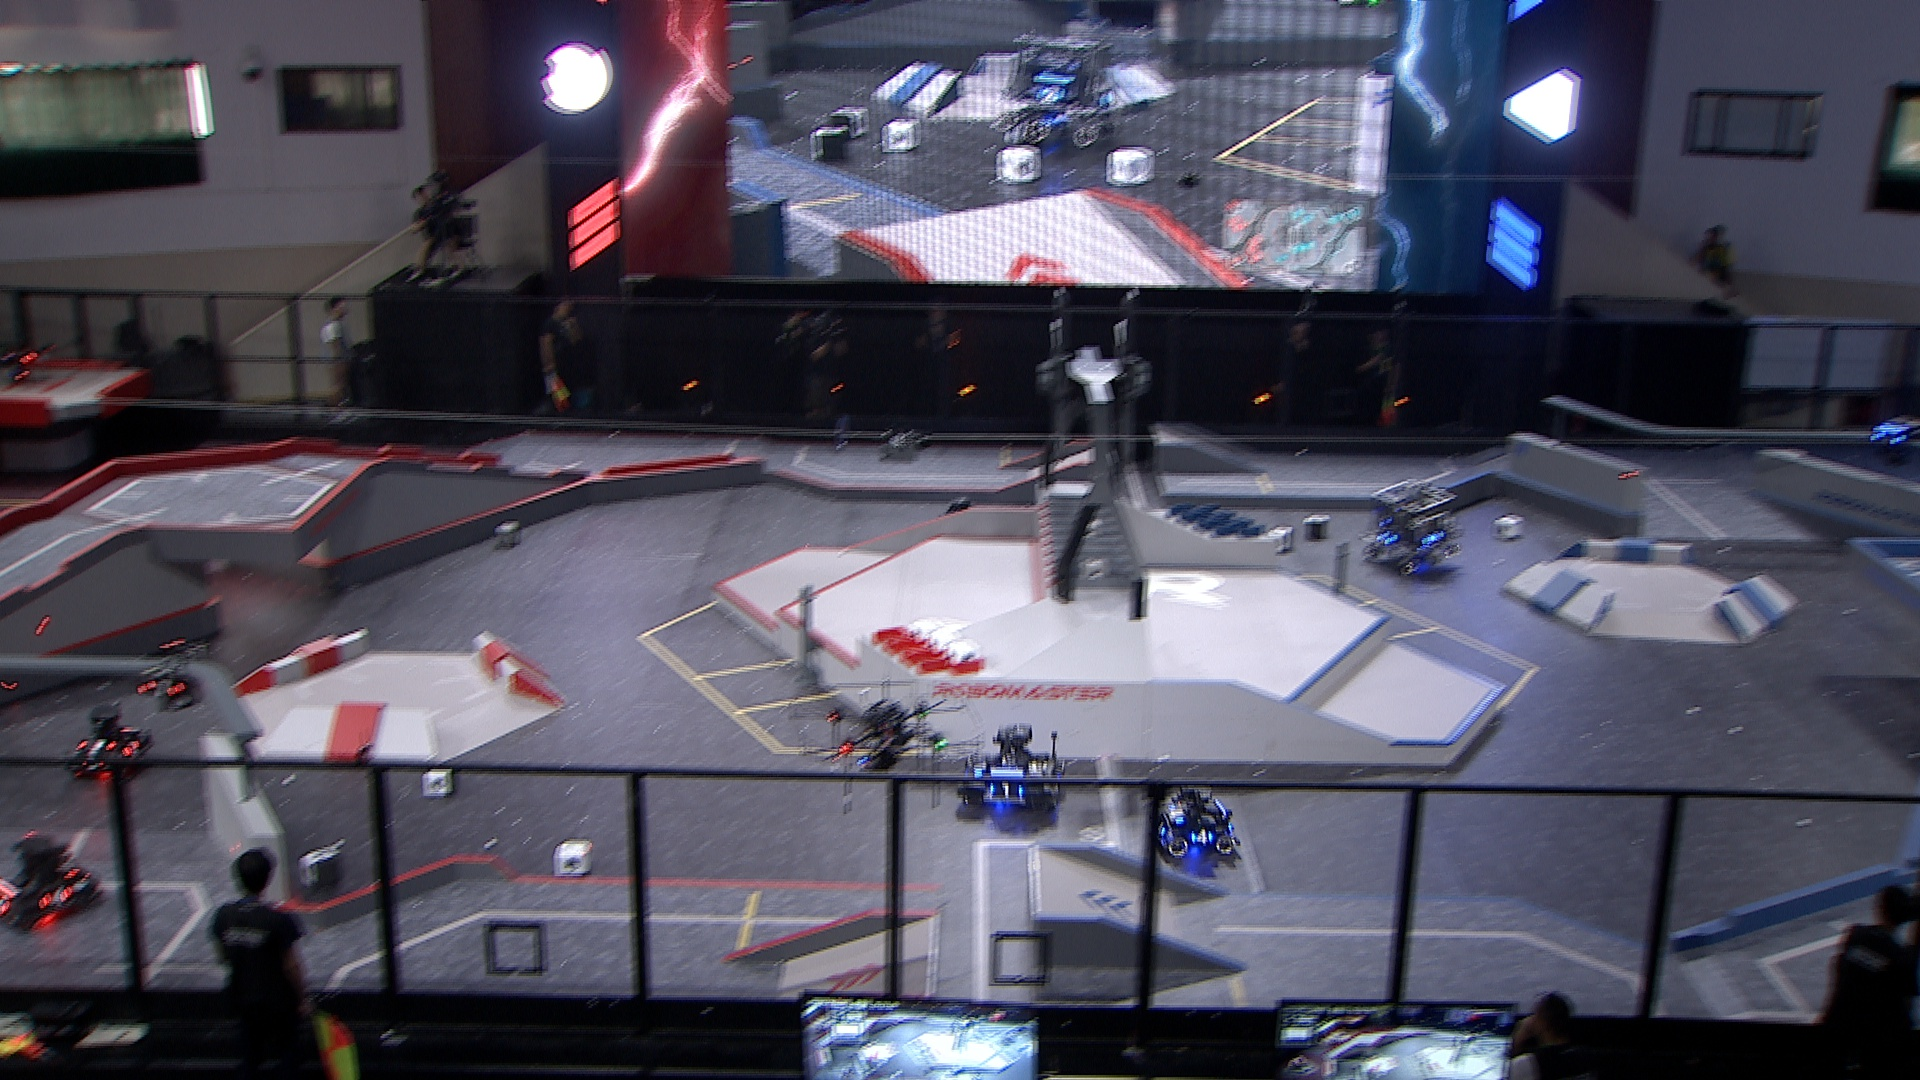armor: (138, 678, 186, 698), (41, 887, 74, 911), (986, 783, 1026, 799), (76, 737, 119, 752), (1188, 827, 1218, 847), (1870, 433, 1903, 448), (1167, 803, 1188, 825), (1150, 818, 1168, 840), (121, 742, 144, 760), (1375, 531, 1400, 546), (972, 756, 989, 777), (1424, 529, 1447, 543)
car: (953, 723, 1069, 818), (1360, 477, 1460, 575), (1145, 783, 1244, 865), (65, 704, 156, 778)
ignore: (993, 32, 1122, 149)
watcher: (131, 640, 216, 713), (1865, 411, 1920, 469)
